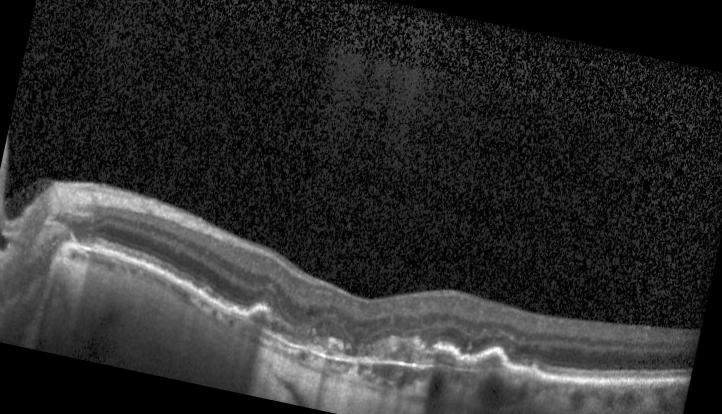subretinal_fluid: (481, 351, 500, 368), (436, 353, 456, 365), (251, 310, 268, 324), (269, 321, 283, 332)
subretinal_hyperreflective_material: (307, 335, 509, 370)
